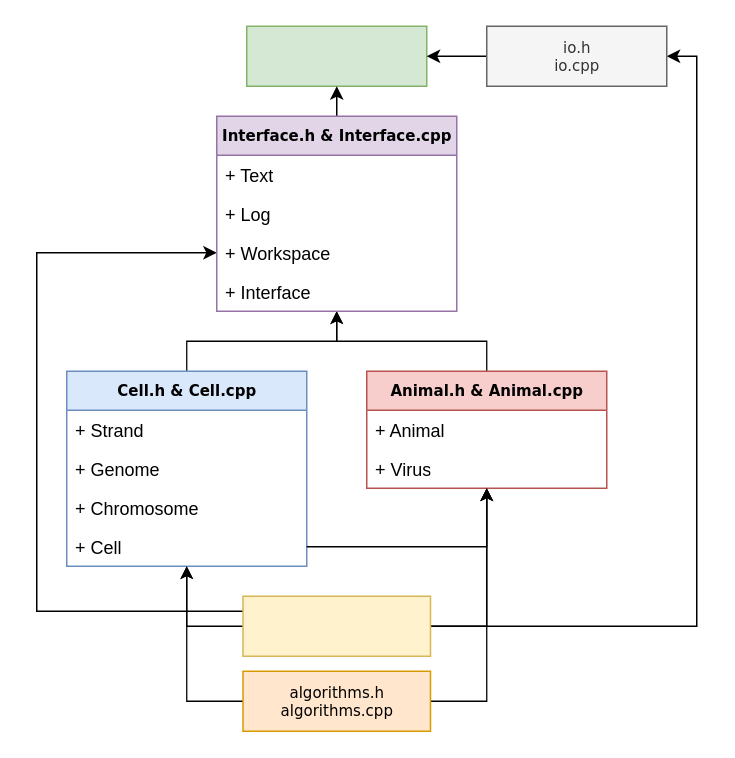
Some shapes in this 735 by 758 pixel diagram are drawn without their labels. Each missing label, with the centre of its shape:
"common.h common.cpp" belongs at [336,625].
"«interface» main.cpp" belongs at [336,55].
